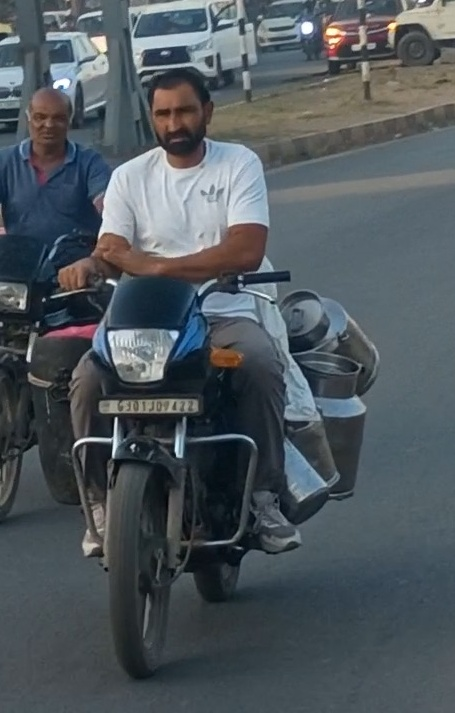BikeWithRider: (45, 56, 388, 686), (0, 79, 130, 529)
NoHelmet: (139, 58, 222, 160), (17, 81, 79, 158)
